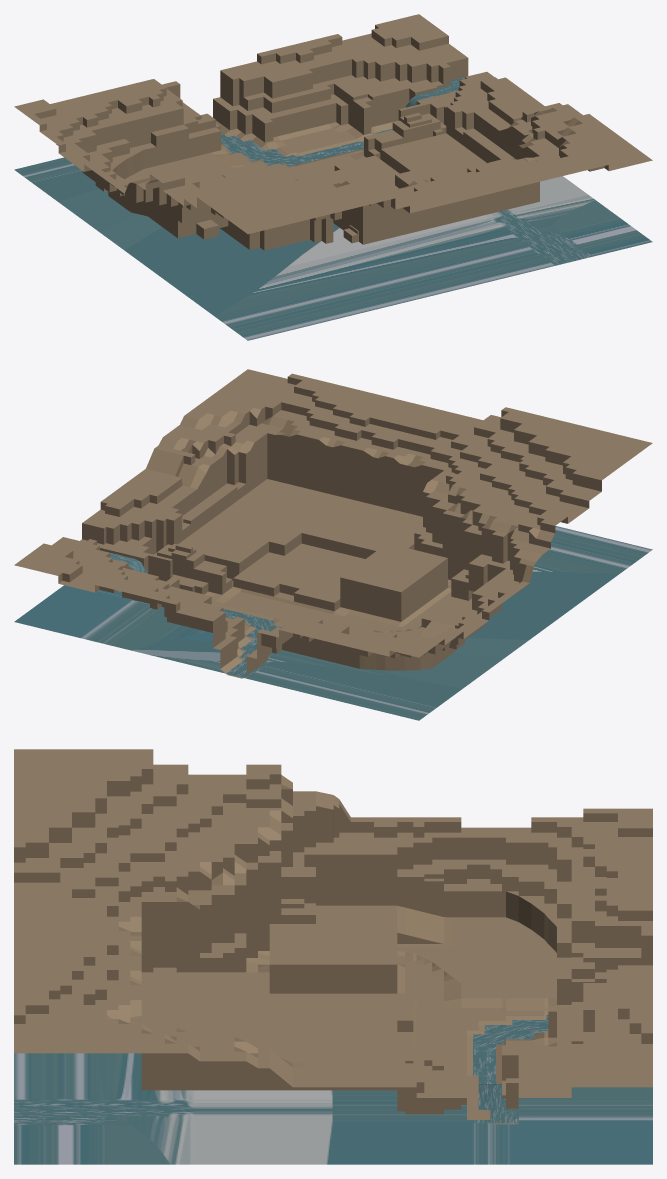
The model's file is GameMapTerrain.fbx.
3 renders of one model, top to bottom at view 1: azimuth 30°, elevation 25°; view 2: azimuth 150°, elevation 25°; view 3: azimuth 270°, elevation 25°, orthographic. The views are drawn at different scales.
Parts seen in each view (by area): view 1: MAP, WATER; view 2: MAP, WATER; view 3: MAP, WATER.
Part boxes in pixels (left/top/right/bottom): MAP: left=14, top=14, right=652, bottom=250; WATER: left=14, top=77, right=652, bottom=340; MAP: left=14, top=369, right=652, bottom=678; WATER: left=14, top=526, right=652, bottom=720; MAP: left=14, top=749, right=652, bottom=1124; WATER: left=14, top=1015, right=652, bottom=1164.
Size of the model in its own units: 20000 by 20000 by 5074.
